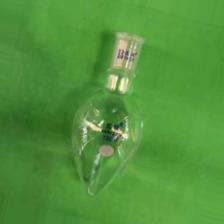Pear shaped flask: (62, 22, 150, 190)
